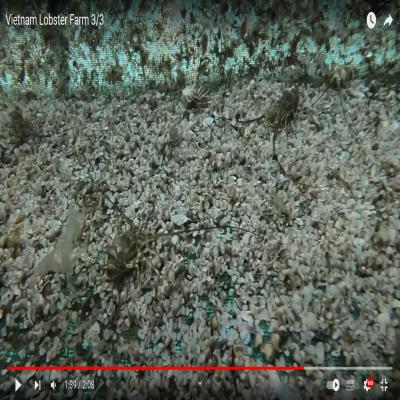lobster: (108, 219, 148, 280), (271, 91, 302, 132), (8, 107, 30, 149)
